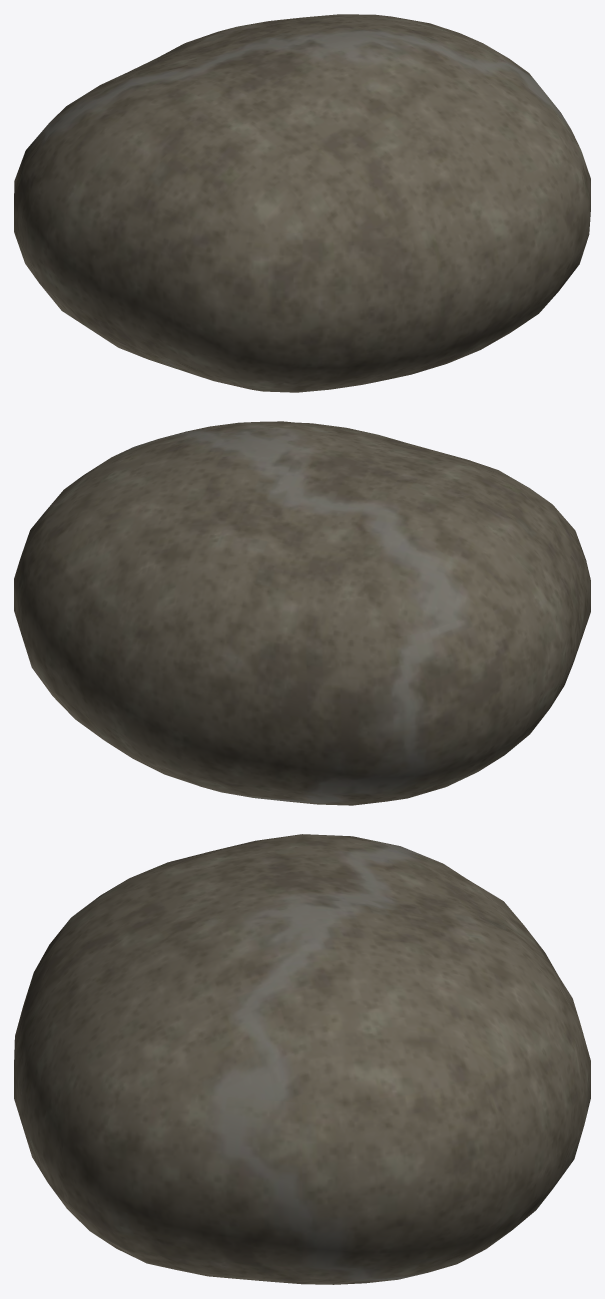
The model's file is chunky_cobble_04.glb.
3 renders of one model, top to bottom at view 1: azimuth 30°, elevation 25°; view 2: azimuth 150°, elevation 25°; view 3: azimuth 270°, elevation 25°, orthographic. The views are drawn at different scales.
Visible parts, largest first — view 1: chunky_cobble_04; view 2: chunky_cobble_04; view 3: chunky_cobble_04.
Boxes of the visible parts, x1,y1,x2,y2 form: chunky_cobble_04: (14,14,590,392); chunky_cobble_04: (14,421,590,805); chunky_cobble_04: (14,834,590,1284).
Size of the model in its own units: 0.0591 by 0.034 by 0.0518.
Materials: 1 (1 with a texture image).
